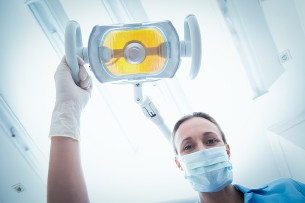Mask: (179, 134, 233, 189)
